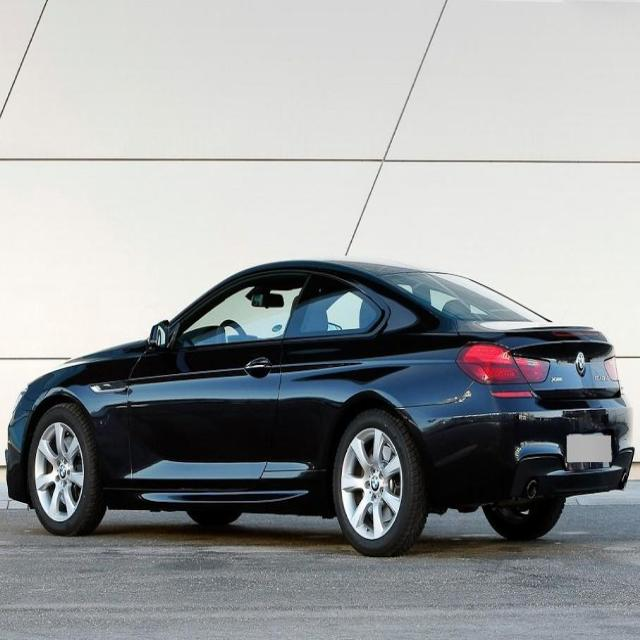back_glass: (374, 270, 551, 325)
back_left_side_light: (453, 339, 552, 386)
back_right_side_light: (603, 351, 621, 384)
front_left_side_door: (126, 266, 310, 484)
front_left_side_light: (13, 379, 31, 410)
front_left_side_mirror: (148, 318, 172, 353)
rear_bumper: (390, 389, 636, 501)
wheel: (332, 410, 426, 555), (29, 404, 105, 534)
